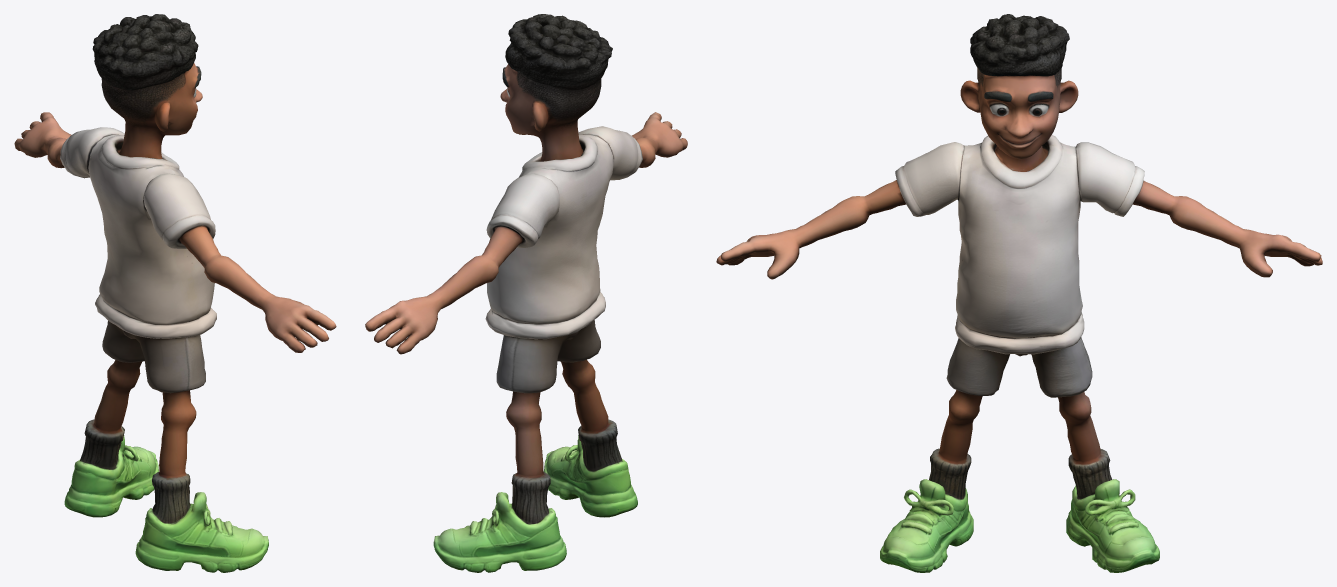
3 views of the same model, side by side, from view 1: azimuth 30°, elevation 25°; view 2: azimuth 150°, elevation 25°; view 3: azimuth 270°, elevation 25° (orthographic). The views are drawn at different scales.
Visible parts, largest first — view 1: tripo_node_53aeaeba; view 2: tripo_node_53aeaeba; view 3: tripo_node_53aeaeba.
Boxes of the visible parts, box(x1,y1,x2,y2) form: tripo_node_53aeaeba: box(14, 14, 336, 572); tripo_node_53aeaeba: box(365, 14, 687, 572); tripo_node_53aeaeba: box(716, 14, 1322, 572).
Size of the model in its own units: 21.72 by 96.28 by 100.
Materials: 1 (1 with a texture image).
